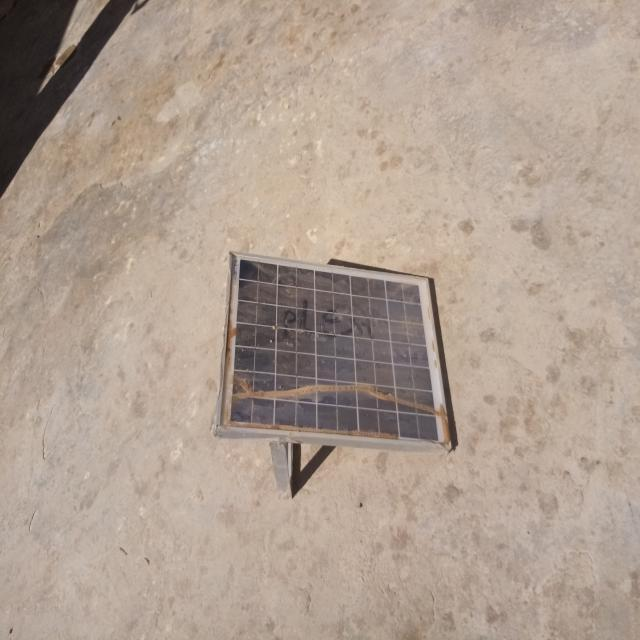faulty: (217, 252, 450, 446)
